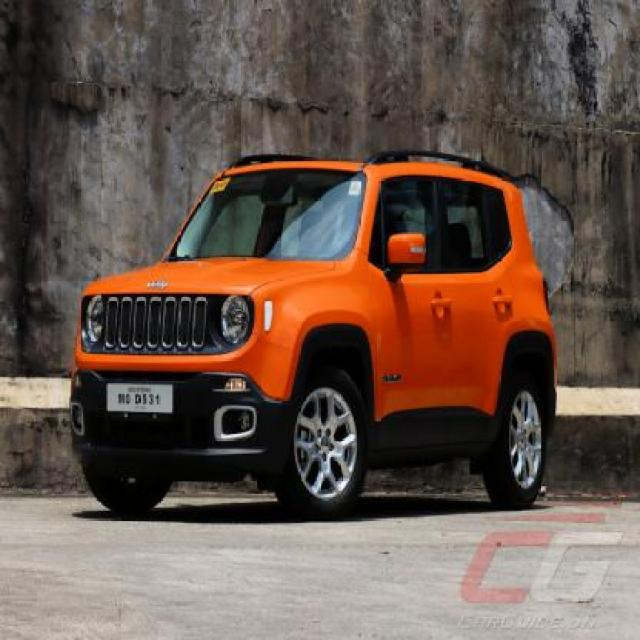Jeep: (70, 152, 558, 518)
